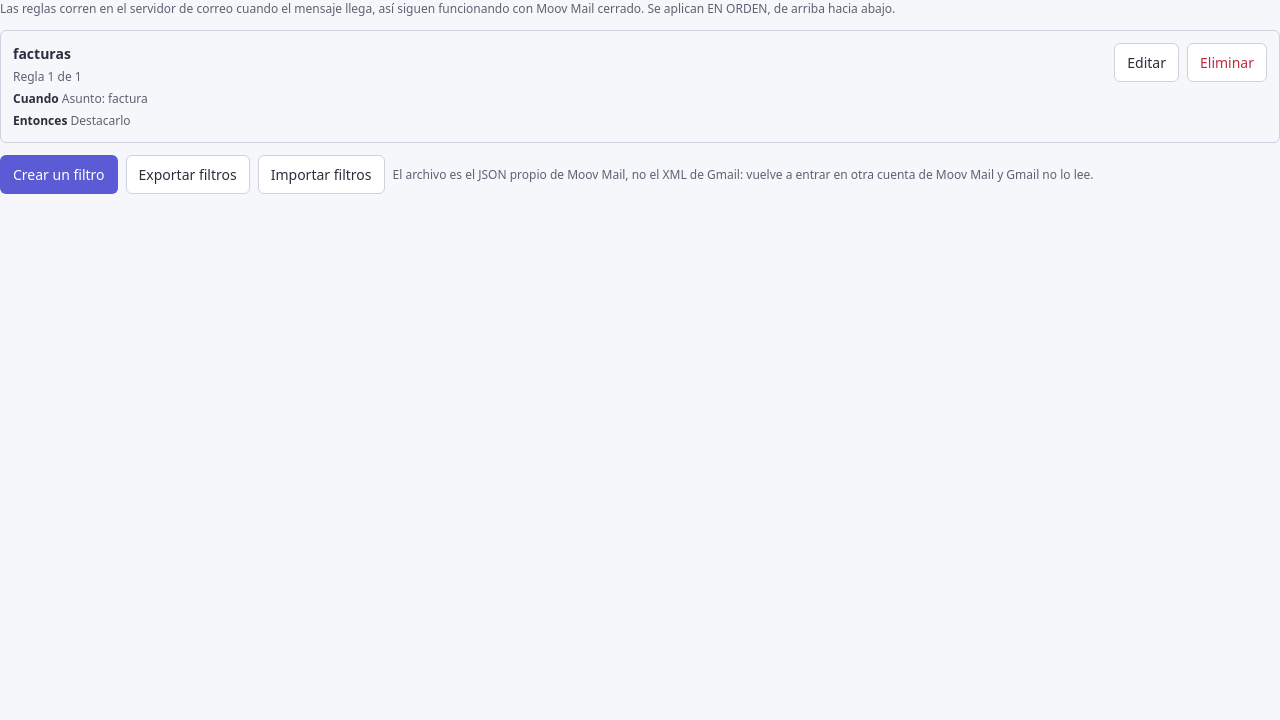
deleting a filter asks first › confirms with our own dialog, and says what survives
Click the button "Eliminar": click(1227, 62) 1187,43 -> 1267,82
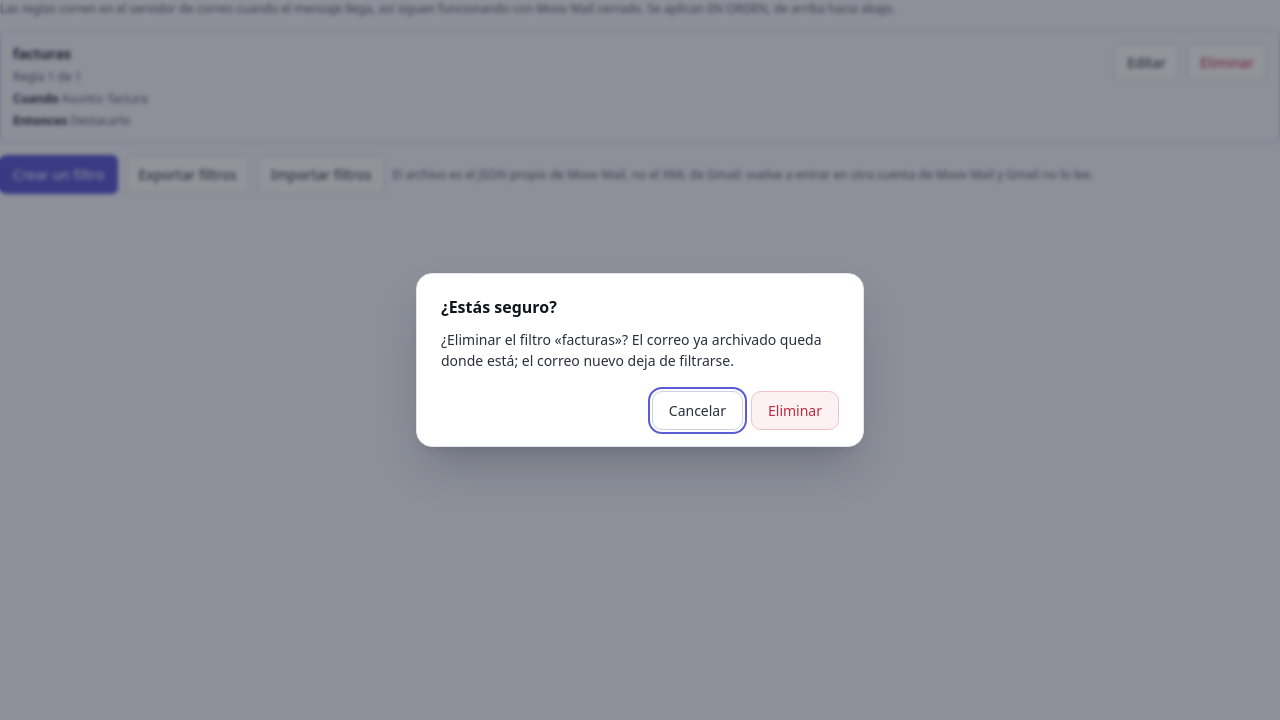
Check: the text "El correo ya archivado queda donde está" is shown, box 441,330 -> 822,370
